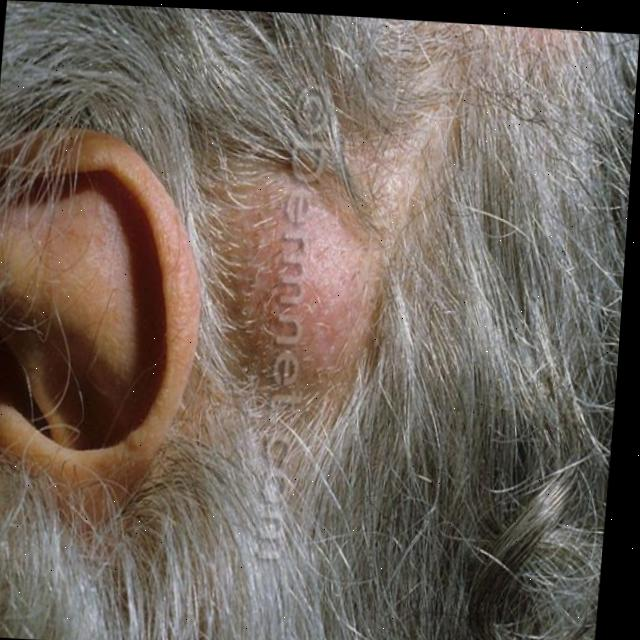Eczema: (244, 198, 372, 379)
